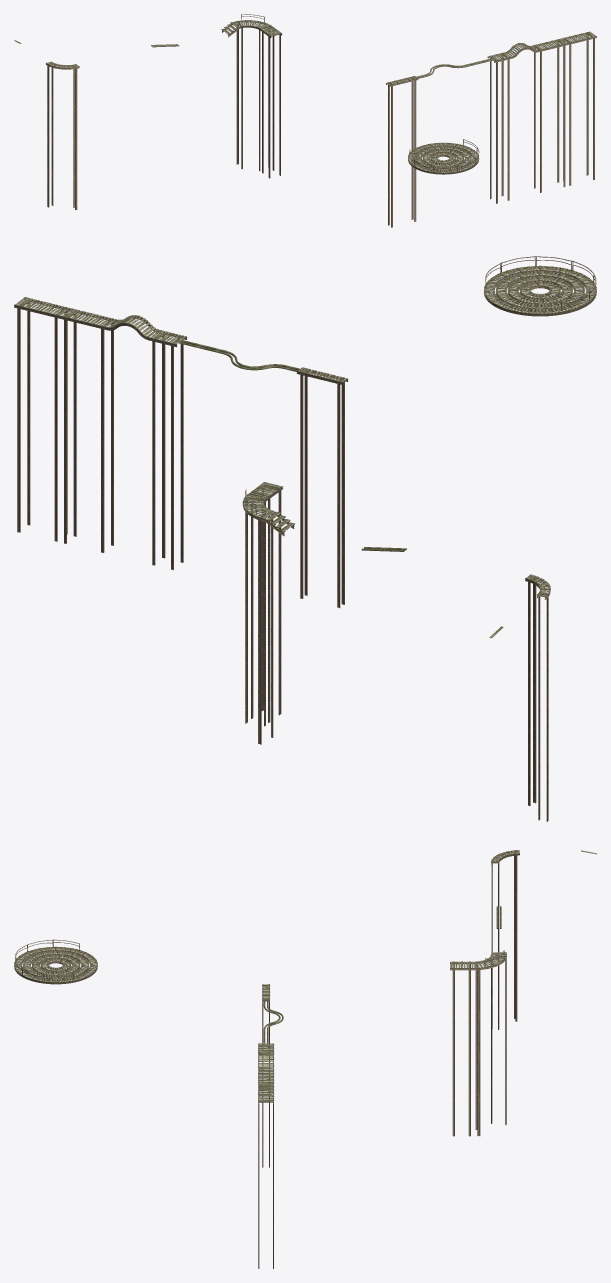
3 views of the same model, one above another, from view 1: azimuth 30°, elevation 25°; view 2: azimuth 150°, elevation 25°; view 3: azimuth 270°, elevation 25° (orthographic). The views are drawn at different scales.
Parts seen in each view (by area): view 1: RAMP.010, RAMP.012, RAMP.009, RAMP.018, RAMP.002, RAMP.003; view 2: RAMP.010, RAMP.012, RAMP.009, RAMP.003, RAMP.002, RAMP.018; view 3: RAMP.012, RAMP.009, RAMP.018, RAMP.010.
Boxes of the visible parts, x1=… form: RAMP.010: x1=532, y1=31, x2=596, y2=192; RAMP.012: x1=234, y1=20, x2=282, y2=178; RAMP.009: x1=408, y1=142, x2=479, y2=174; RAMP.018: x1=46, y1=61, x2=79, y2=209; RAMP.002: x1=487, y1=52, x2=511, y2=203; RAMP.003: x1=386, y1=76, x2=418, y2=227; RAMP.010: x1=14, y1=297, x2=116, y2=552; RAMP.012: x1=242, y1=482, x2=283, y2=744; RAMP.009: x1=484, y1=265, x2=596, y2=316; RAMP.003: x1=296, y1=367, x2=348, y2=608; RAMP.002: x1=149, y1=330, x2=187, y2=569; RAMP.018: x1=525, y1=574, x2=550, y2=821; RAMP.012: x1=450, y1=954, x2=506, y2=1136; RAMP.009: x1=14, y1=946, x2=97, y2=984; RAMP.018: x1=491, y1=850, x2=519, y2=1029; RAMP.010: x1=258, y1=1068, x2=274, y2=1268.
Size of the model in its own units: 7502 by 2447 by 7316.
